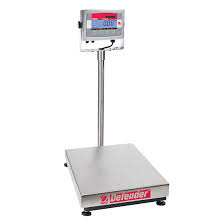Industrial Scale: (62, 8, 171, 216)
